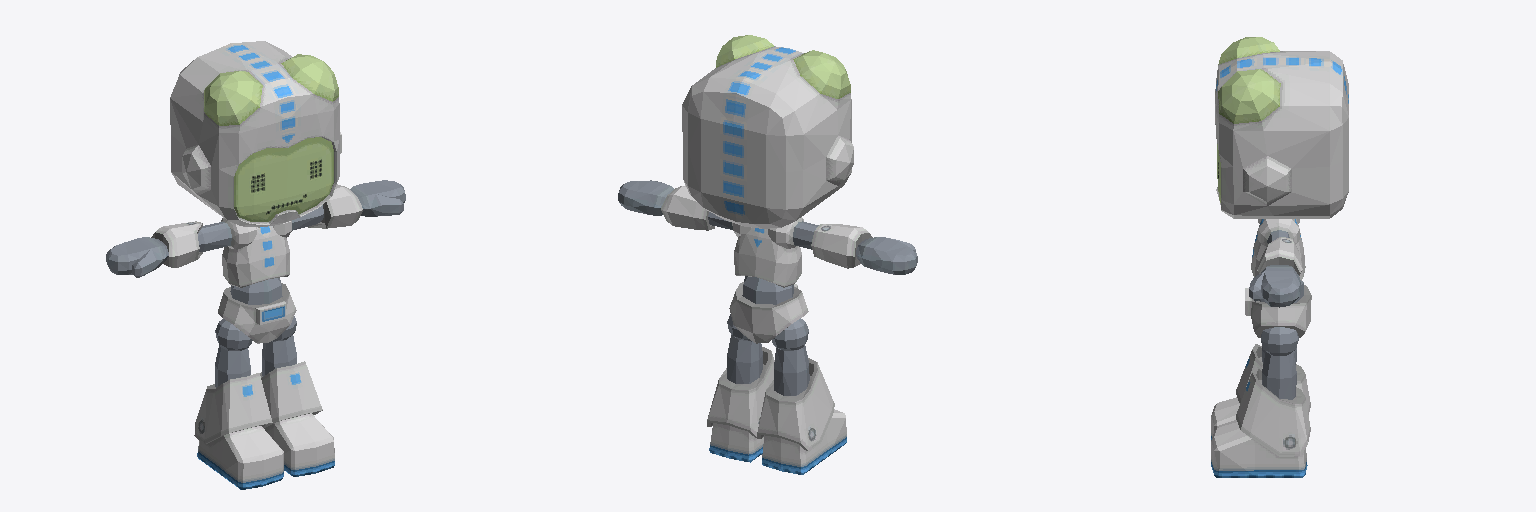
3 views of the same model, side by side, from view 1: azimuth 30°, elevation 25°; view 2: azimuth 150°, elevation 25°; view 3: azimuth 270°, elevation 25° (orthographic).
Visible parts, largest first — view 1: Mesh_0782, Mesh_1085, Mesh_1083; view 2: Mesh_0782, Mesh_1085; view 3: Mesh_1085, Mesh_0782.
Boxes of the visible parts, <box> form: Mesh_0782: <box>106,180,405,489</box>; Mesh_1085: <box>170,41,341,227</box>; Mesh_1083: <box>234,137,333,221</box>; Mesh_0782: <box>618,180,917,474</box>; Mesh_1085: <box>682,35,853,228</box>; Mesh_1085: <box>1215,37,1348,218</box>; Mesh_0782: <box>1211,219,1311,477</box>.
Bounding box in the file's own units: 1.34 × 1.73 × 0.5435.
Materials: 3 (3 with a texture image).